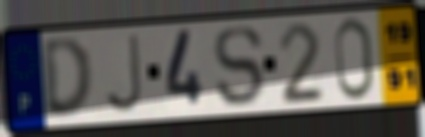0: (332, 14, 376, 104)
2: (277, 19, 327, 107)
4: (163, 26, 210, 115)
D: (40, 35, 96, 122)
J: (101, 32, 144, 116)
S: (212, 23, 265, 110)
